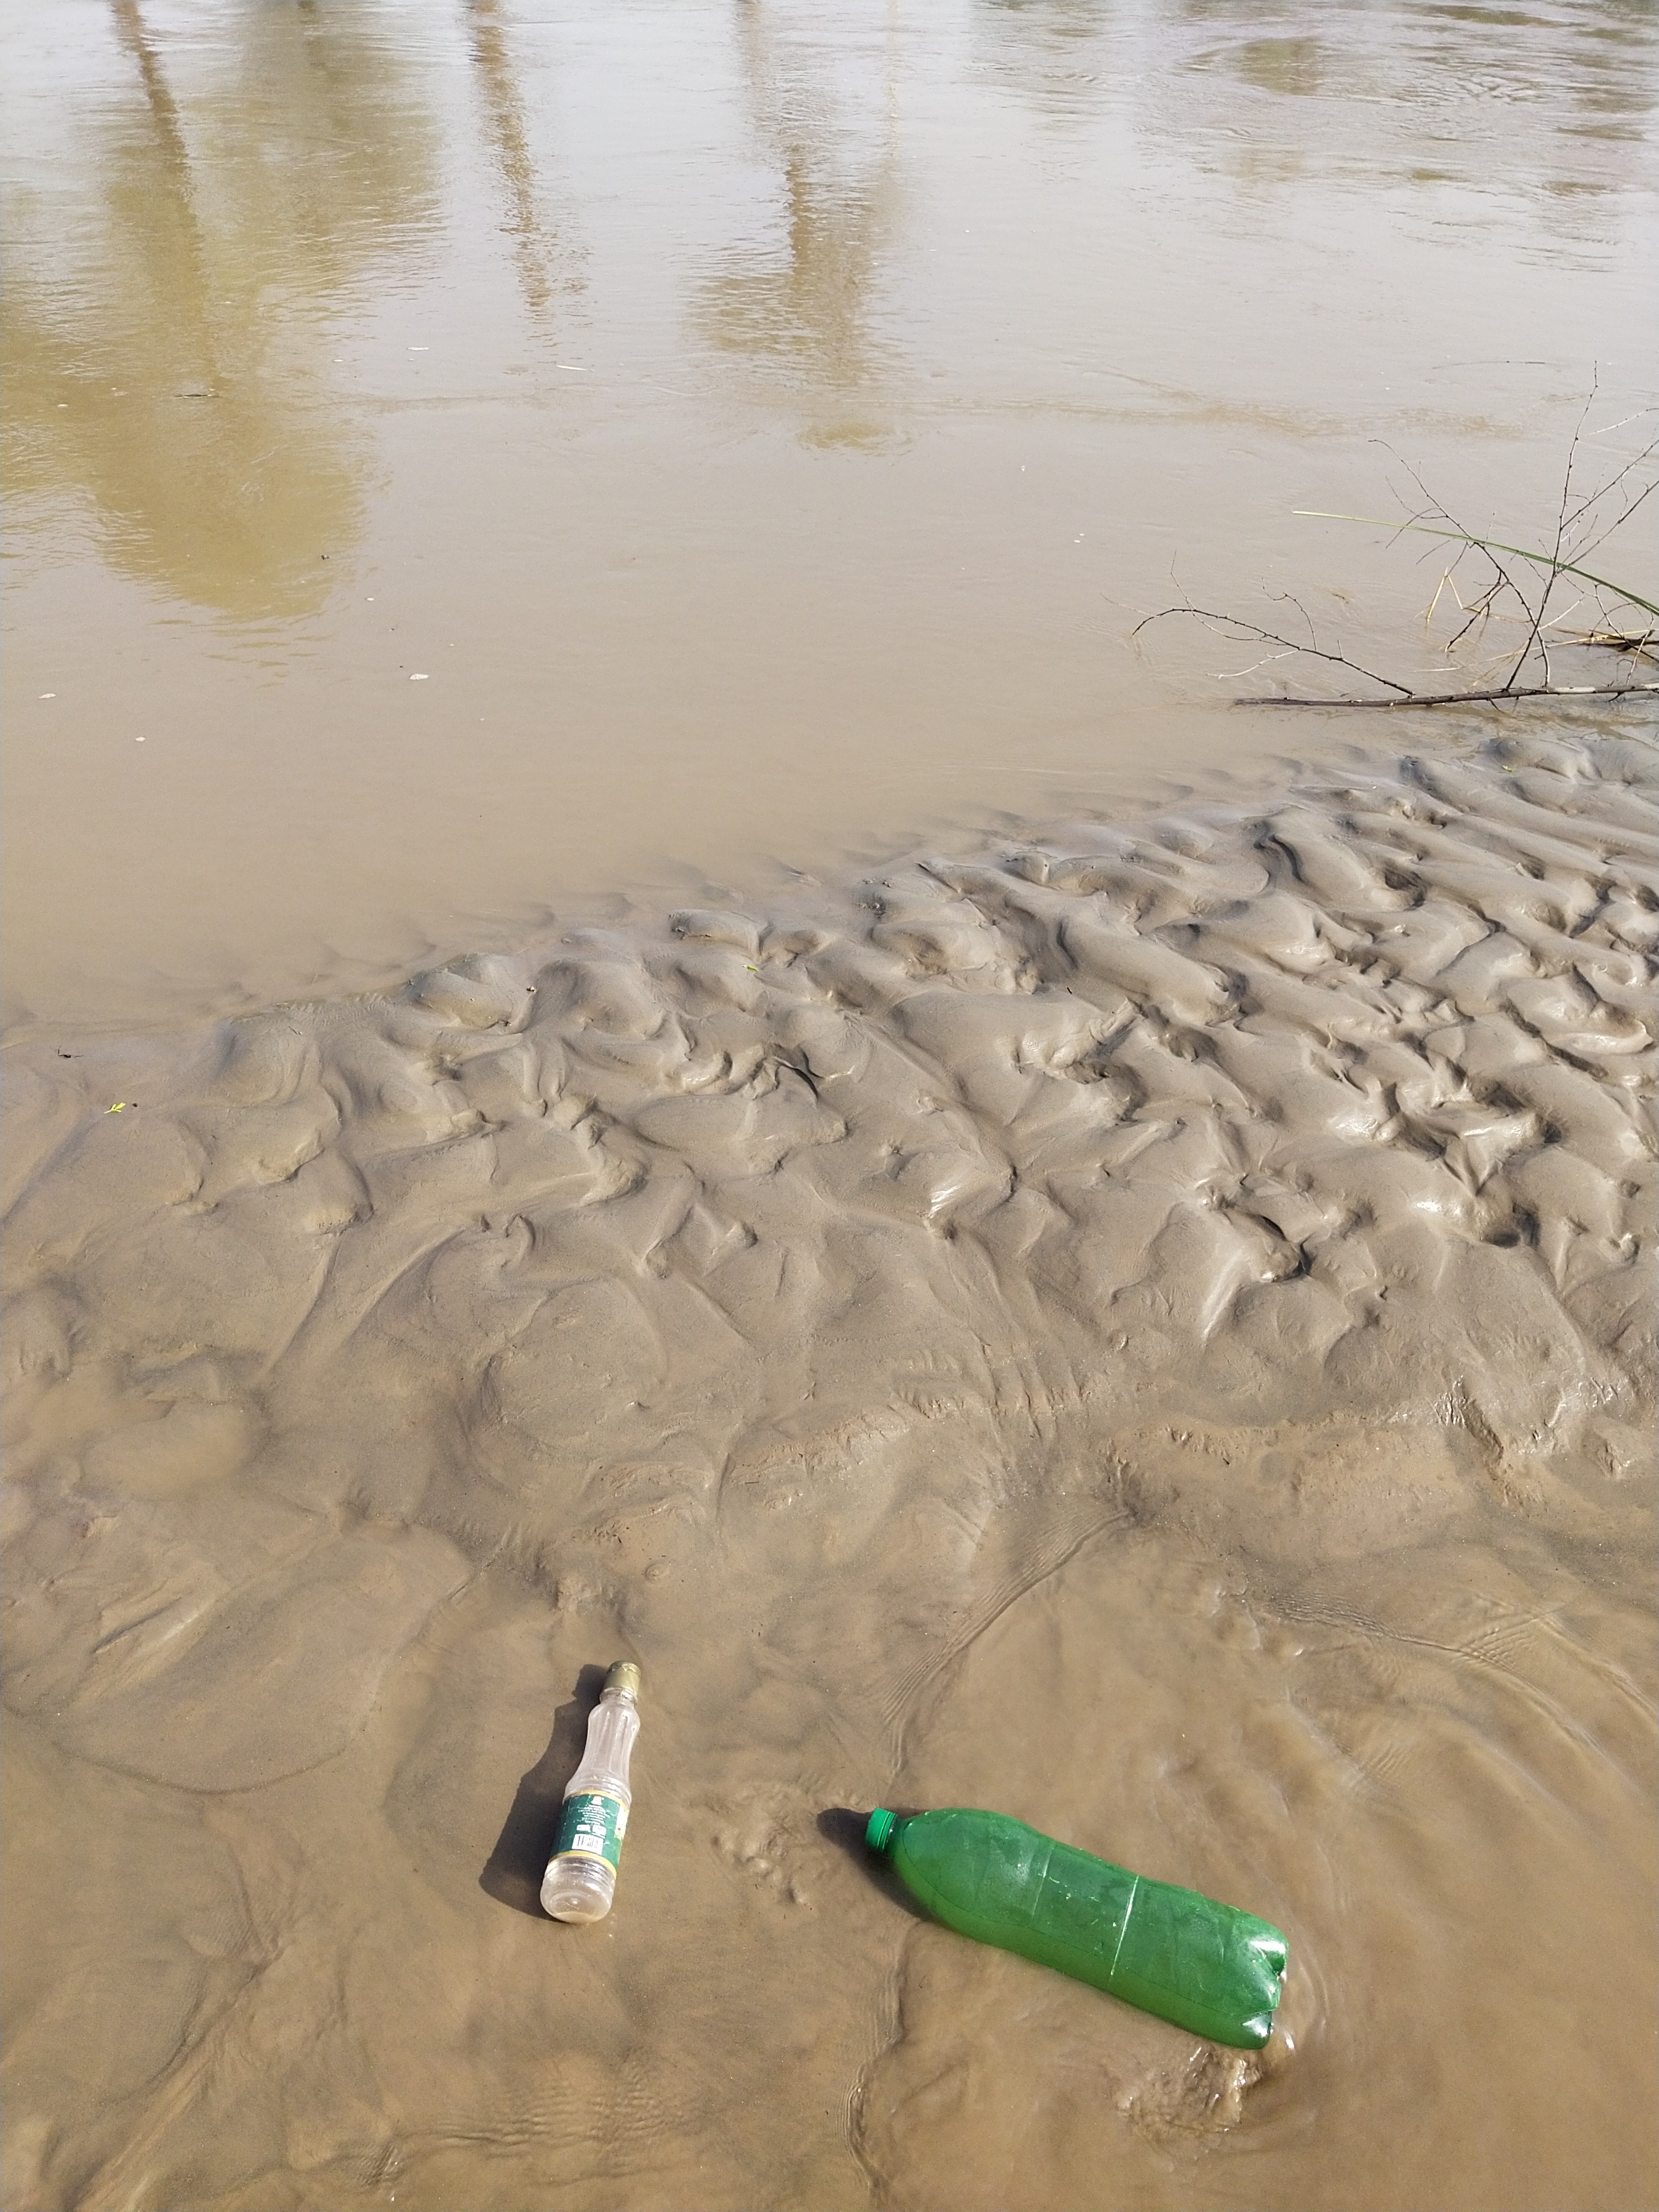Plastic Bottle: (864, 1808, 1290, 2050), (538, 1660, 640, 1923)
